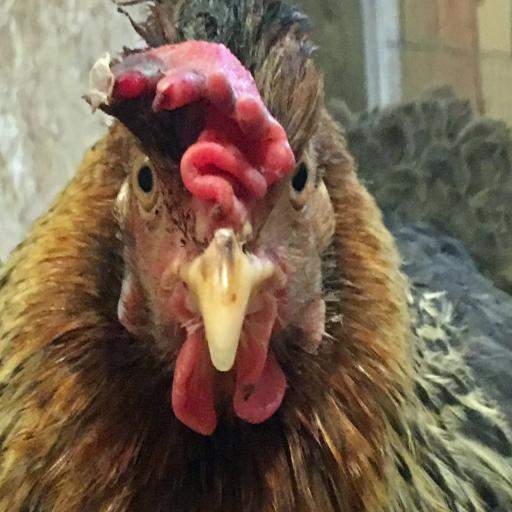disease: (82, 15, 397, 232)
